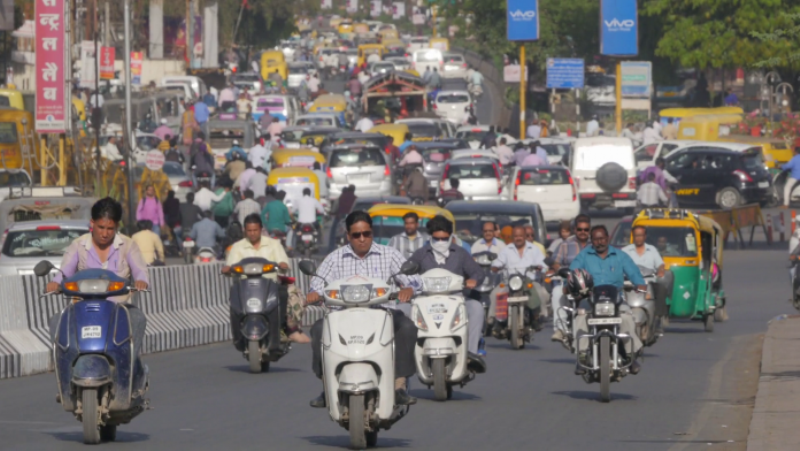h_bike: (46, 183, 151, 439), (314, 205, 407, 451), (410, 208, 475, 408), (570, 225, 634, 386), (222, 213, 288, 364)
h_nohelmet: (85, 193, 124, 252), (344, 208, 376, 259), (422, 213, 458, 257), (587, 218, 614, 257), (241, 215, 266, 247)
numplate: (75, 318, 112, 349), (583, 315, 629, 329), (239, 295, 268, 317), (424, 300, 456, 318), (342, 332, 371, 347)
